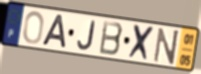A: (40, 13, 68, 50)
B: (98, 19, 125, 57)
J: (76, 19, 97, 52)
N: (152, 26, 181, 66)
O: (22, 10, 46, 46)
X: (126, 23, 157, 63)
